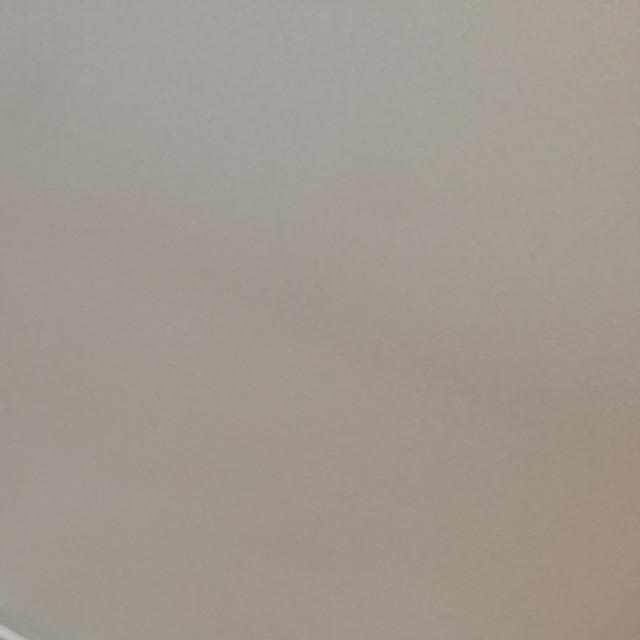fluorescent tube: (0, 321, 591, 640)
